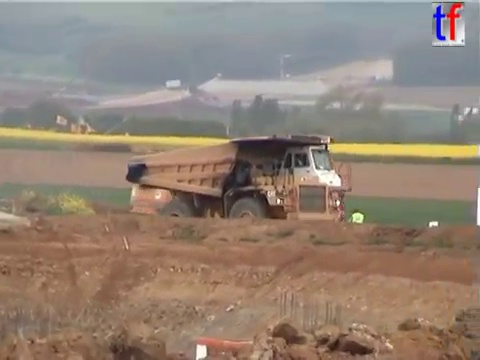excavator: (128, 153, 355, 238)
truck: (124, 131, 343, 241)
worker: (346, 205, 367, 240)
